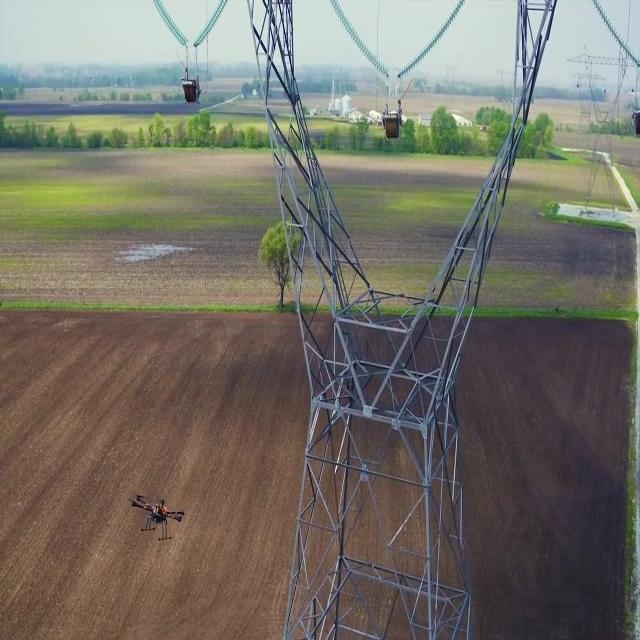UAV: (127, 494, 185, 540)
